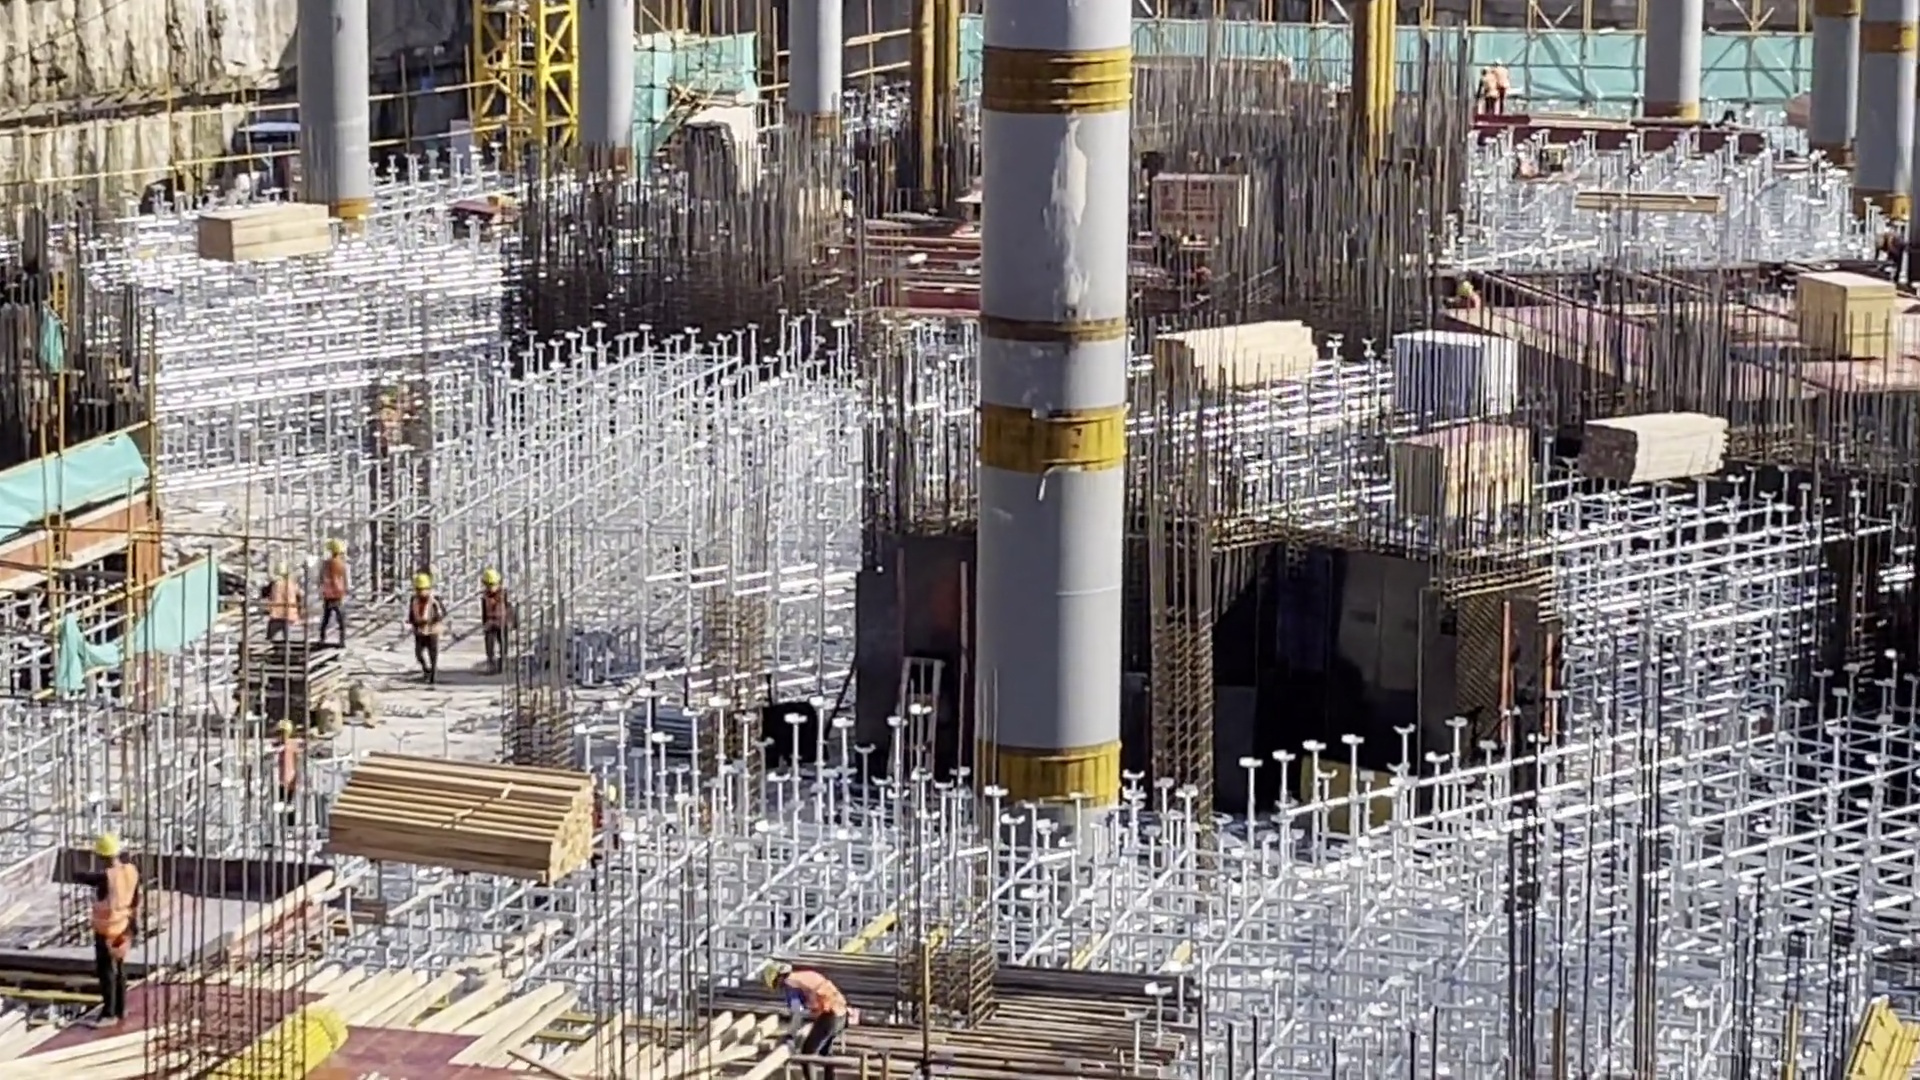board: (1393, 420, 1541, 525), (1794, 271, 1898, 360)
helmet: (90, 832, 122, 858), (762, 961, 790, 992), (478, 569, 502, 584), (325, 538, 345, 556), (410, 574, 432, 590)
person: (759, 959, 853, 1080), (87, 828, 140, 1020), (310, 538, 357, 642), (475, 566, 515, 677), (408, 571, 444, 686), (257, 562, 304, 641), (268, 722, 298, 819), (373, 394, 397, 450), (1479, 68, 1500, 119), (1530, 308, 1558, 339), (1495, 58, 1510, 114), (1457, 284, 1480, 308)
rebar: (692, 935, 1254, 1063)
vest: (89, 863, 138, 960), (785, 969, 847, 1019), (267, 580, 298, 625), (410, 595, 436, 647), (480, 592, 509, 637), (321, 560, 348, 604), (1483, 76, 1498, 99), (1494, 68, 1508, 88)
wood: (313, 744, 603, 887), (1150, 317, 1315, 398), (1580, 409, 1730, 489), (197, 199, 331, 260), (1571, 187, 1722, 223)
